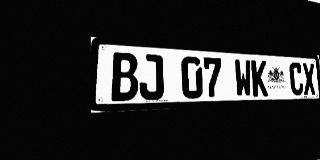0: (181, 56, 203, 99)
7: (202, 57, 223, 98)
B: (111, 52, 138, 101)
C: (289, 62, 304, 95)
J: (139, 54, 164, 100)
K: (251, 60, 268, 97)
W: (234, 59, 252, 97)
X: (302, 63, 316, 95)
